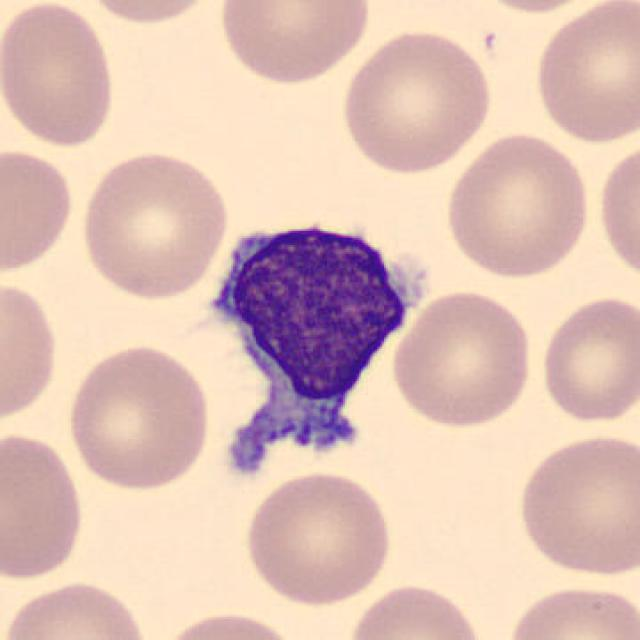Lymphocyte: (190, 201, 427, 487)
RBC: (75, 146, 233, 304), (336, 25, 496, 176), (62, 338, 215, 494), (441, 129, 595, 280), (240, 467, 396, 610), (387, 286, 537, 432), (512, 428, 638, 580), (0, 0, 121, 150), (529, 0, 638, 146), (215, 0, 375, 88), (0, 426, 89, 584), (535, 291, 638, 427), (0, 143, 78, 275), (0, 576, 154, 640), (0, 275, 64, 428), (343, 580, 489, 640), (502, 580, 638, 640), (594, 138, 638, 288), (153, 608, 307, 640), (76, 0, 224, 28), (461, 0, 614, 16)
